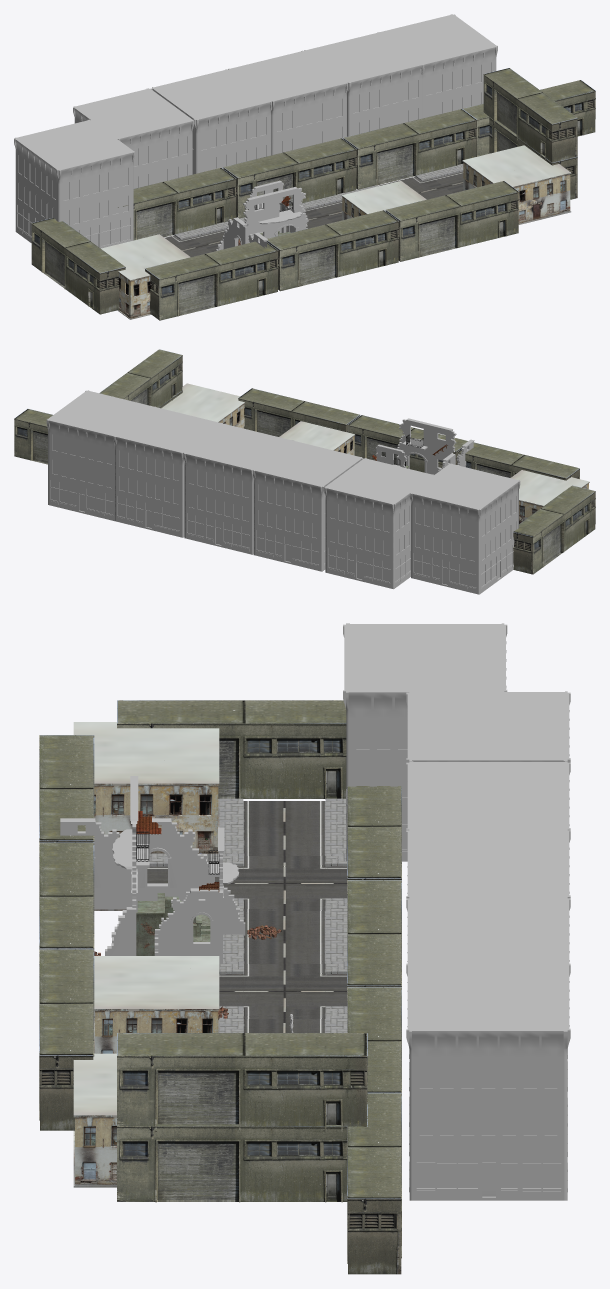
The model's file is Urban_Scene.fbx.
3 renders of one model, top to bottom at view 1: azimuth 30°, elevation 25°; view 2: azimuth 150°, elevation 25°; view 3: azimuth 270°, elevation 25°, orthographic. The views are drawn at different scales.
Visible parts, largest first — view 1: Plane01.003, Plane01.005, Plane01.022, Plane01.006, Plane01.025, Plane01.023, Plane01.004, Plane01.026, Plane01.027, Plane01.002, Plane01, Plane01.001 (+16 smaller); view 2: Plane01.003, Plane01.004, Plane01.005, Plane01.022, Plane01.006, Plane01.023, Plane01.028, Plane01.027, Plane01.024, Plane01.025, Plane01.026, Plane01.017 (+5 smaller); view 3: Plane01.023, Plane01.024, Plane01.020, Plane01.003, Plane01.028, Plane01.016, Plane01.004, Plane01.022, Plane01.005, Plane01.006, Plane01.019, Plane01.021 (+19 smaller).
Boxes of the visible parts, left/top/right/bottom form: Plane01.003: left=14, top=119, right=135, bottom=248; Plane01.005: left=151, top=69, right=271, bottom=174; Plane01.022: left=304, top=32, right=424, bottom=136; Plane01.006: left=228, top=50, right=347, bottom=155; Plane01.025: left=145, top=241, right=278, bottom=320; Plane01.023: left=377, top=14, right=497, bottom=118; Plane01.004: left=73, top=88, right=194, bottom=188; Plane01.026: left=267, top=210, right=398, bottom=291; Plane01.027: left=385, top=181, right=519, bottom=261; Plane01.002: left=343, top=109, right=476, bottom=189; Plane01: left=118, top=167, right=236, bottom=240; Plane01.001: left=223, top=138, right=356, bottom=218; Plane01.003: left=409, top=463, right=520, bottom=594; Plane01.004: left=324, top=458, right=433, bottom=589; Plane01.005: left=253, top=440, right=362, bottom=571; Plane01.022: left=113, top=406, right=223, bottom=537; Plane01.006: left=183, top=423, right=293, bottom=554; Plane01.023: left=46, top=390, right=156, bottom=520; Plane01.028: left=513, top=485, right=595, bottom=574; Plane01.027: left=238, top=388, right=359, bottom=436; Plane01.024: left=99, top=349, right=182, bottom=407; Plane01.025: left=458, top=442, right=579, bottom=480; Plane01.026: left=348, top=415, right=467, bottom=472; Plane01.017: left=161, top=383, right=245, bottom=428; Plane01.023: left=406, top=962, right=570, bottom=1200; Plane01.024: left=117, top=1033, right=367, bottom=1131; Plane01.020: left=117, top=1104, right=367, bottom=1202; Plane01.003: left=343, top=623, right=507, bottom=861; Plane01.028: left=117, top=700, right=346, bottom=799; Plane01.016: left=73, top=722, right=219, bottom=853; Plane01.004: left=406, top=691, right=570, bottom=762; Plane01.022: left=406, top=897, right=570, bottom=1126; Plane01.005: left=406, top=761, right=570, bottom=830; Plane01.006: left=406, top=829, right=570, bottom=1058; Plane01.019: left=94, top=956, right=219, bottom=1053; Plane01.021: left=347, top=1093, right=401, bottom=1274.
Bounding box in the file's own units: 106502 × 17188 × 47979.
